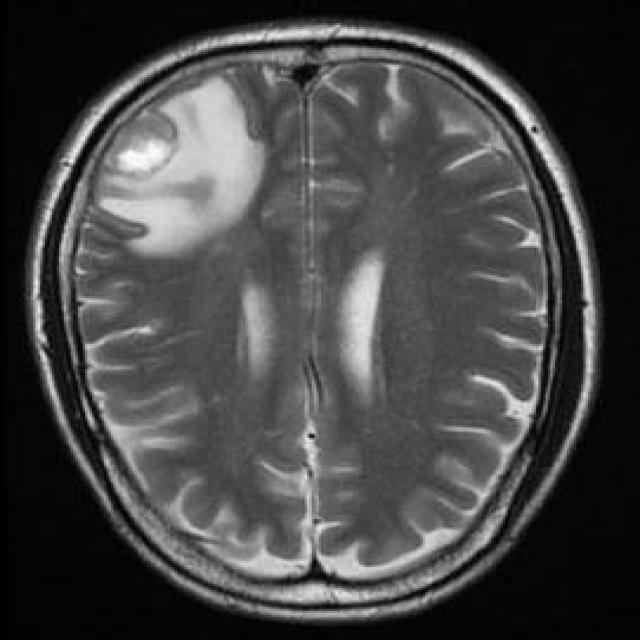brain tumor: (94, 75, 262, 259), (102, 113, 175, 175)
